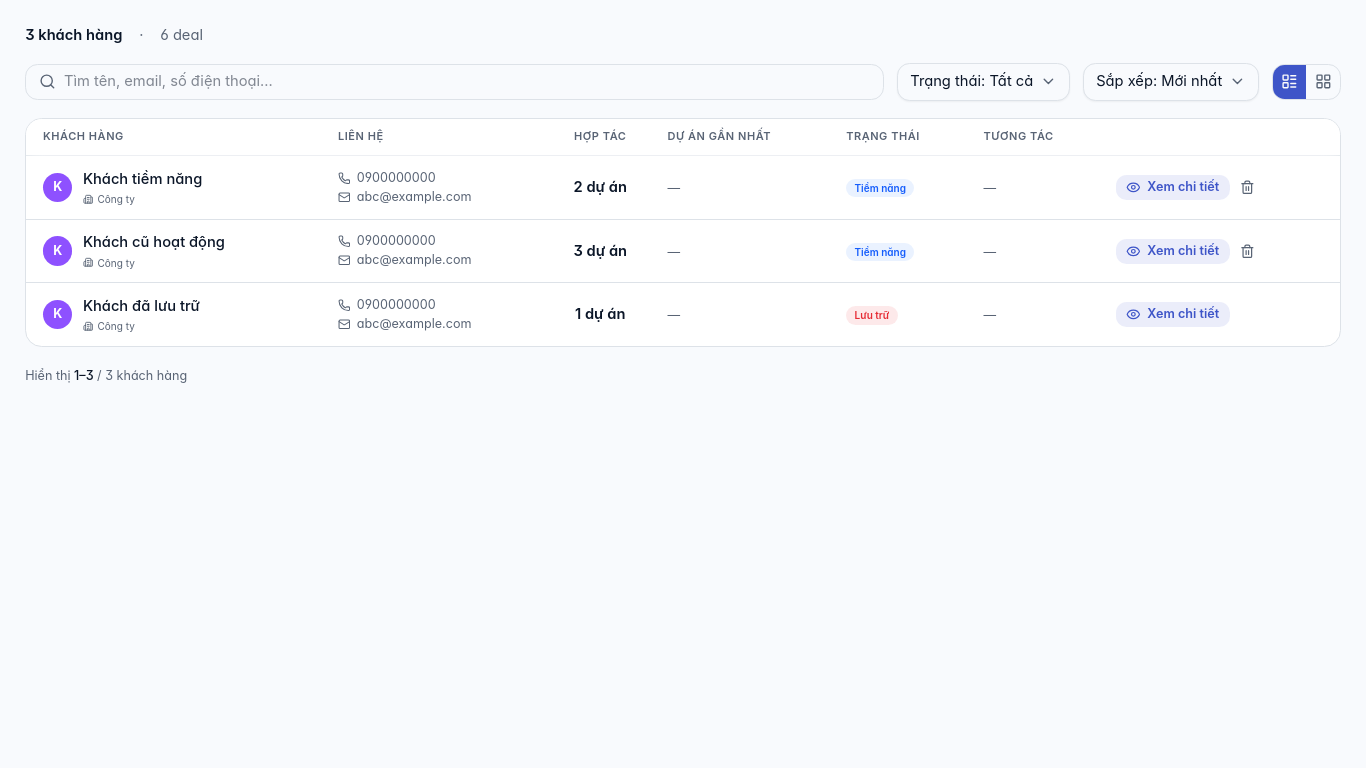
it: <ClientRecords /> — lưu trữ khách › bấm Hủy thì không lưu trữ gì
The width and height of the screenshot is (1366, 768).
What coordinates should you click on to do the following:
click the button titled "Xóa" in the row of "Khách tiềm năng"
I would click on:
 (1247, 188)
Its box is x1=1234 y1=174 x2=1261 y2=201.
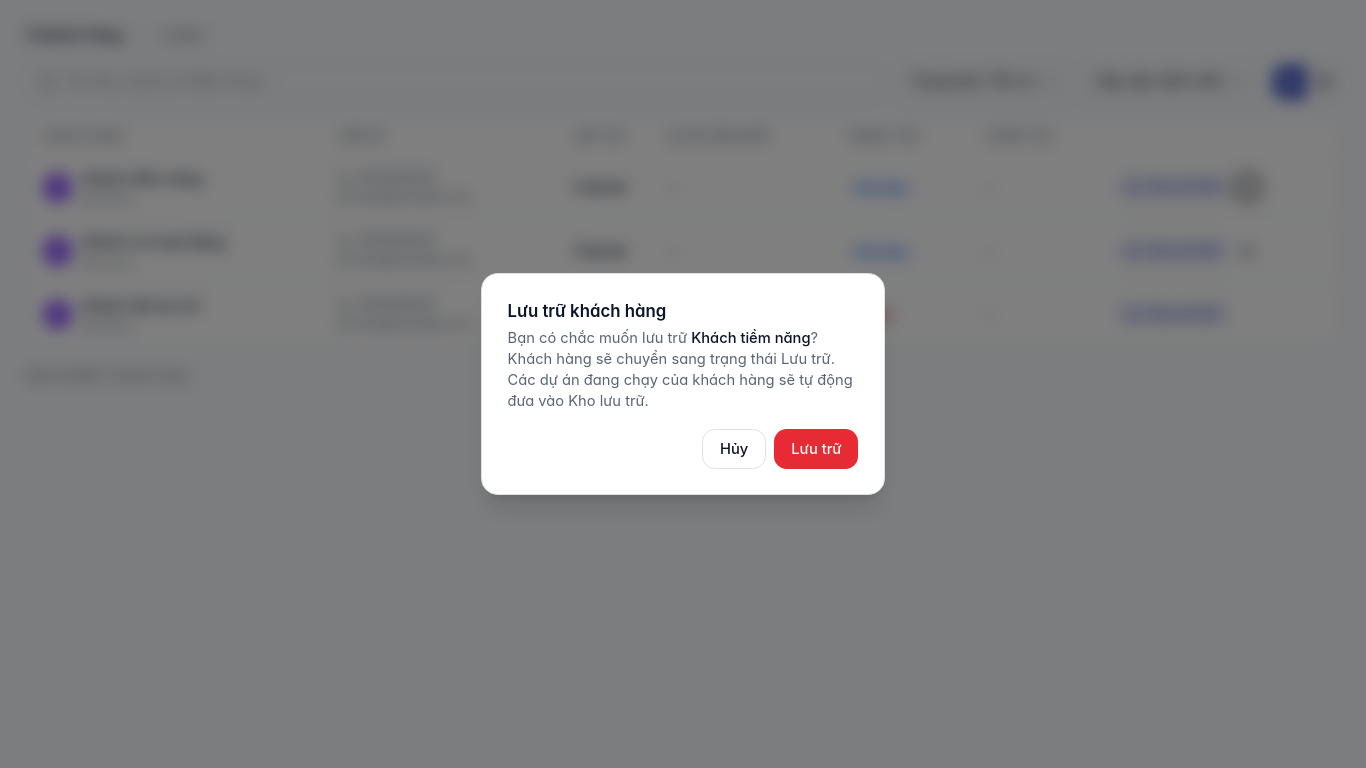
What coordinates should you click on to do the following:
click the button "Hủy"
I would click on:
 (734, 449)
Its box is x1=702 y1=429 x2=766 y2=469.
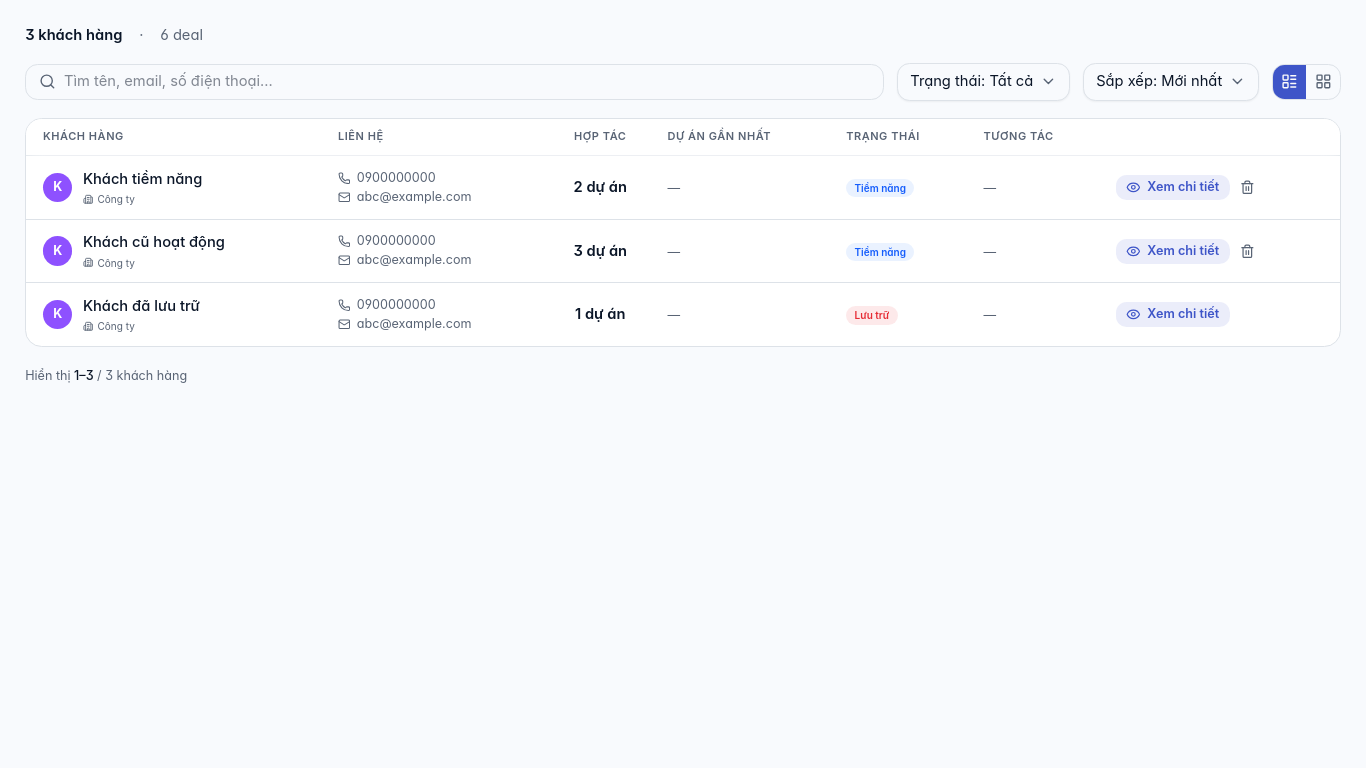
Expected: the heading "Lưu trữ khách hàng" is gone
